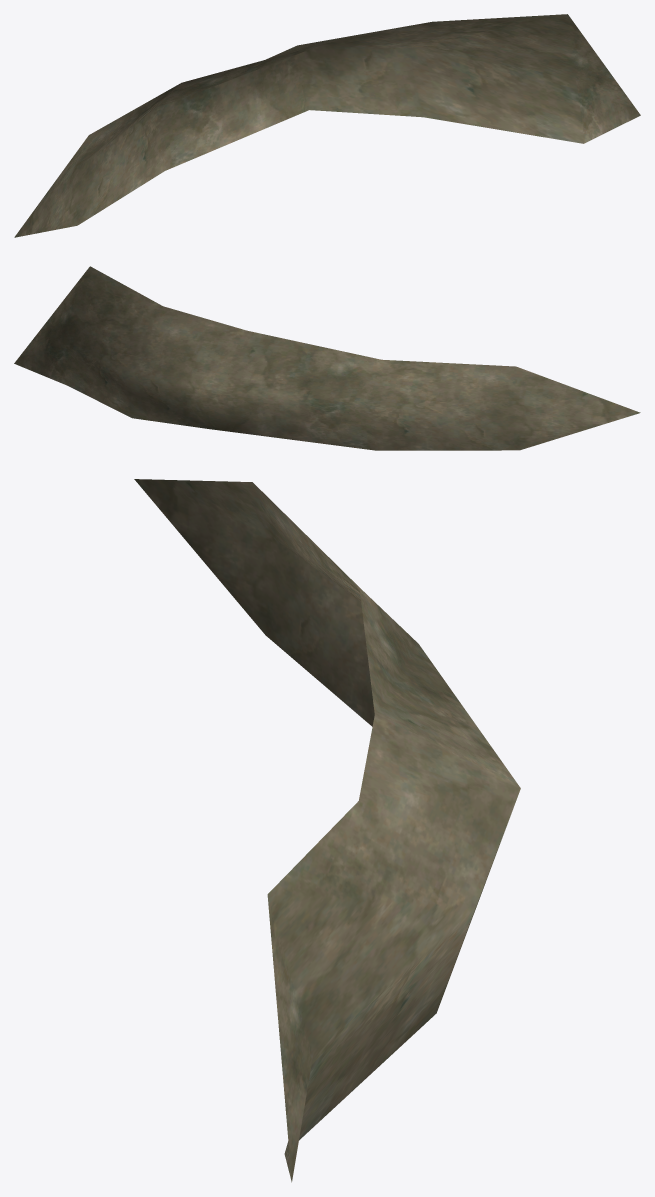
The model's file is OVERHILL_A_01_OBJECT185.fbx.
3 views of the same model, one above another, from view 1: azimuth 30°, elevation 25°; view 2: azimuth 150°, elevation 25°; view 3: azimuth 270°, elevation 25° (orthographic). The views are drawn at different scales.
Visible parts, largest first — view 1: OVERHILL_A_01_OBJECT185; view 2: OVERHILL_A_01_OBJECT185; view 3: OVERHILL_A_01_OBJECT185.
Boxes of the visible parts, x1,y1,x2,y2 form: OVERHILL_A_01_OBJECT185: (14, 14, 640, 237); OVERHILL_A_01_OBJECT185: (14, 266, 640, 450); OVERHILL_A_01_OBJECT185: (134, 479, 520, 1182).
Bounding box in the file's own units: 76969 × 15142 × 21944.
1 material, 1 textured.
